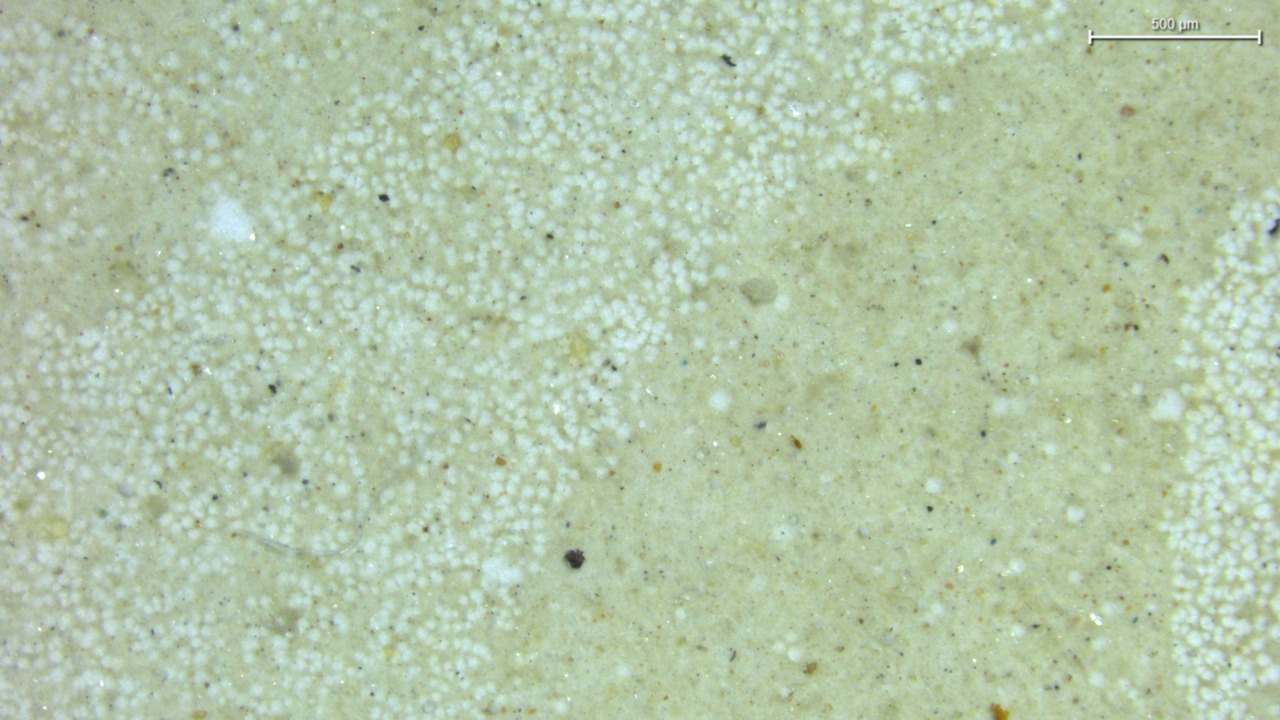microplastic_fragment: (739, 278, 777, 305)
